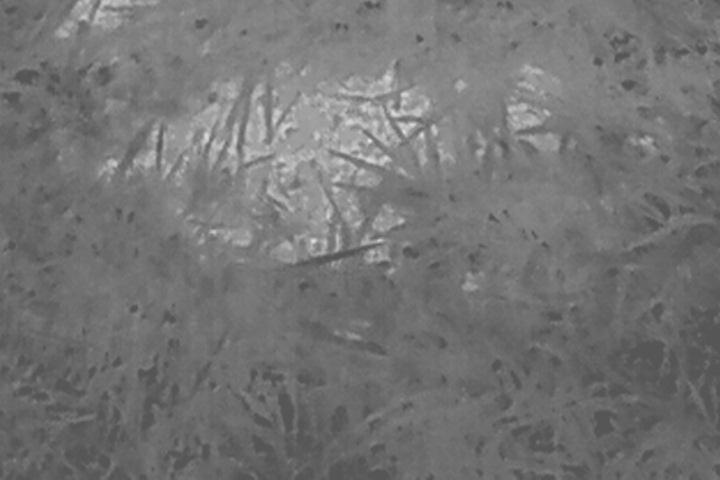landmine: (109, 59, 555, 268)
